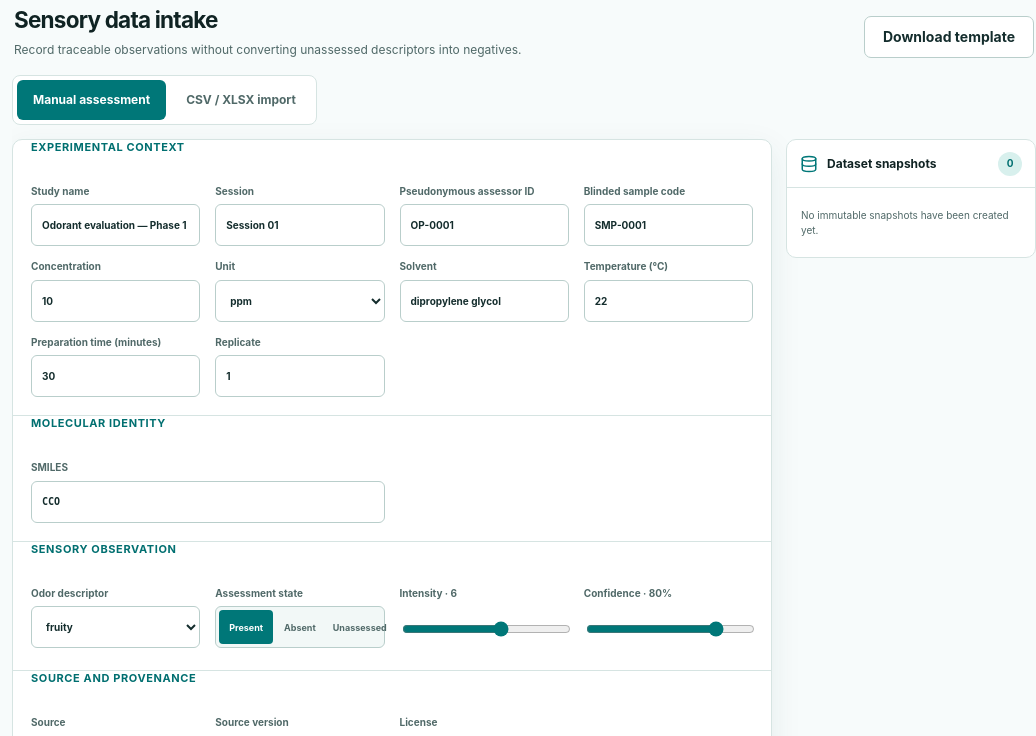
Test: manual intake preserves tri-state semantics and exposes batch workflow
expect the text "No immutable snapshots have been created yet." is shown: met, box [801,209,1009,236]
expect the slider labelled "Intensity · 6" is enabled: met, box [402,608,571,650]
What coordinates should you click on to do the following:
click the button "Unassessed"
I would click on:
 (354, 627)
Its box is [327,610,381,644].
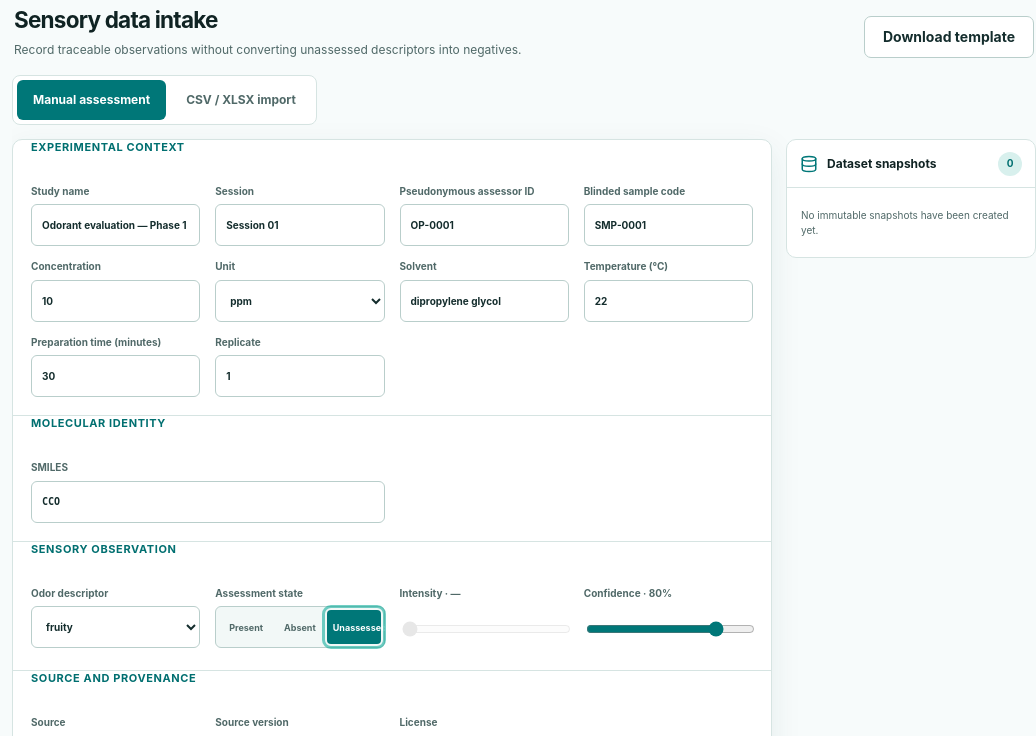
What coordinates should you click on to do the following:
click the tab "CSV / XLSX import"
I would click on:
 (241, 100)
Its box is [170,80,312,120].
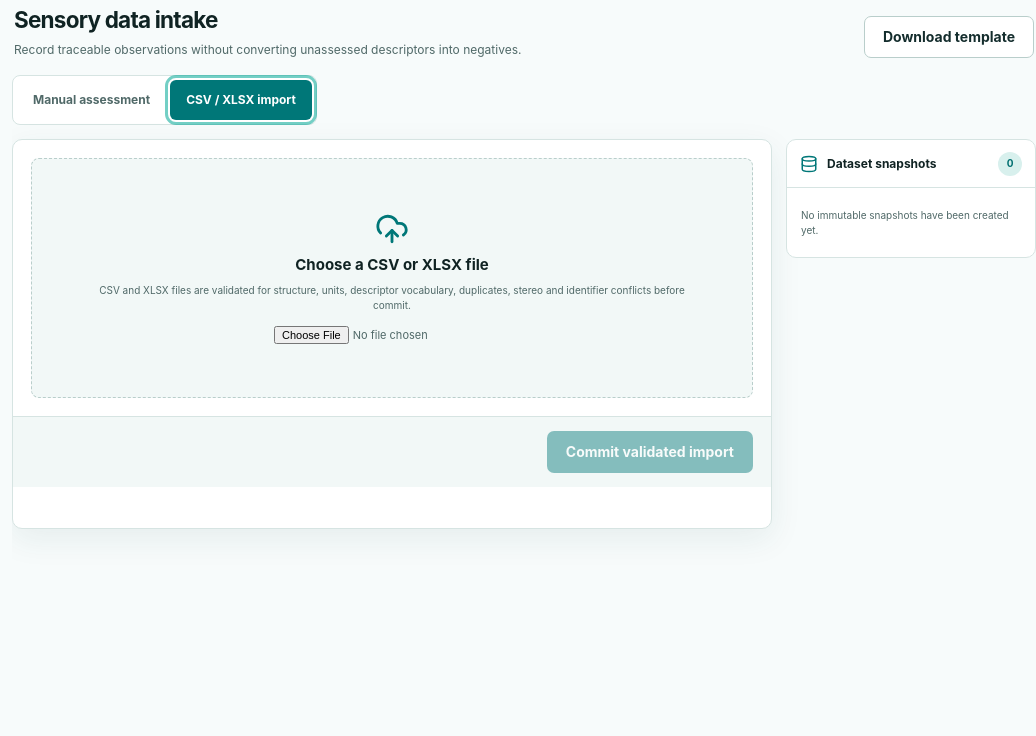
expect the heading "Choose a CSV or XLSX file" is shown: met, box [295,254,489,276]
